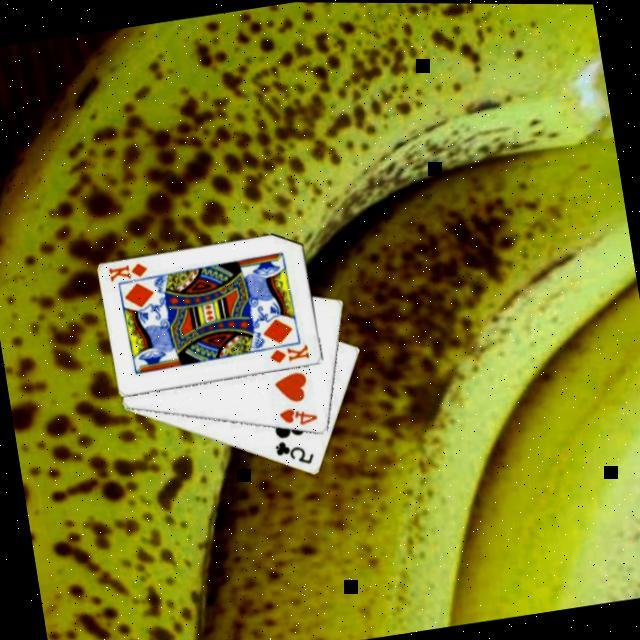4H: (276, 402, 322, 432)
5C: (272, 436, 318, 474)
KD: (106, 260, 152, 287), (267, 342, 314, 368)
